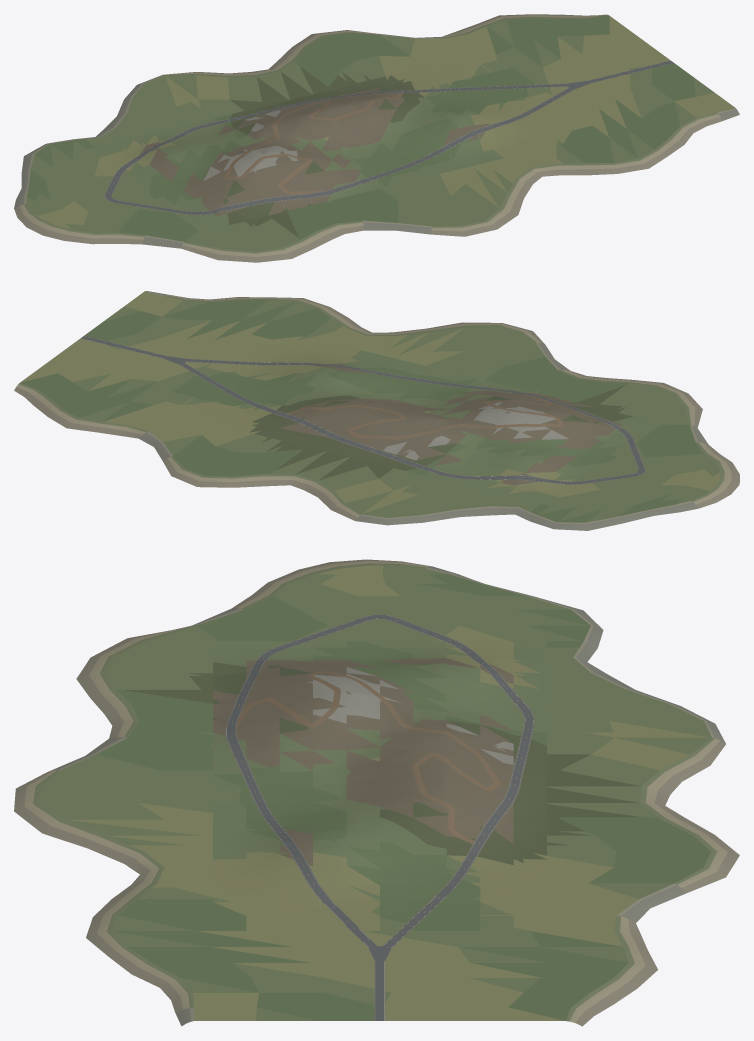
File: west-cape.glb
3 views of the same model, one above another, from view 1: azimuth 30°, elevation 25°; view 2: azimuth 150°, elevation 25°; view 3: azimuth 270°, elevation 25° (orthographic). The views are drawn at different scales.
Size of the model in its own units: 1058 by 34.95 by 695.
